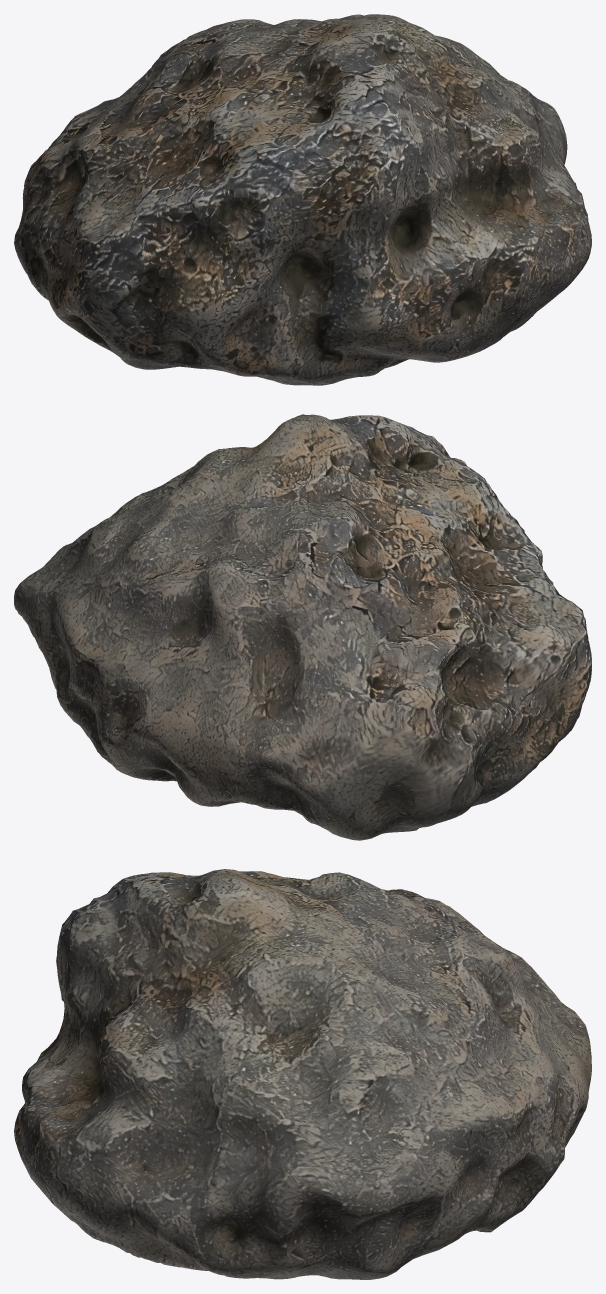
The model's file is asteroid_common_1.remesh.glb.
3 renders of one model, top to bottom at view 1: azimuth 30°, elevation 25°; view 2: azimuth 150°, elevation 25°; view 3: azimuth 270°, elevation 25°, orthographic. The views are drawn at different scales.
Visible parts, largest first — view 1: model; view 2: model; view 3: model.
Boxes of the visible parts, box(x1,y1,x2,y2) form: model: box(14, 14, 591, 385); model: box(14, 414, 591, 840); model: box(14, 869, 591, 1279).
Bounding box in the file's own units: 1.88 × 1.15 × 1.66.
Materials: 1 (1 with a texture image).
